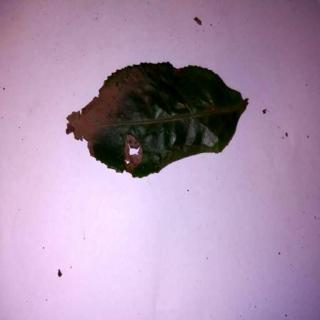Anthracnose: (68, 62, 251, 179)
